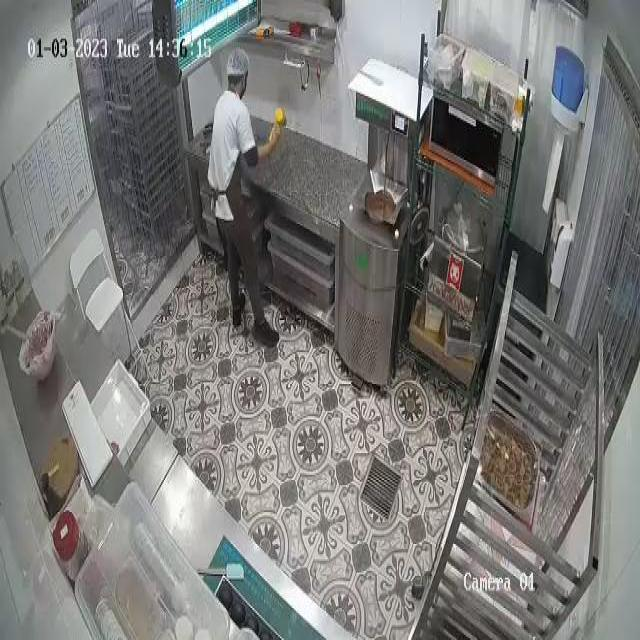hairnet: (227, 47, 251, 77)
